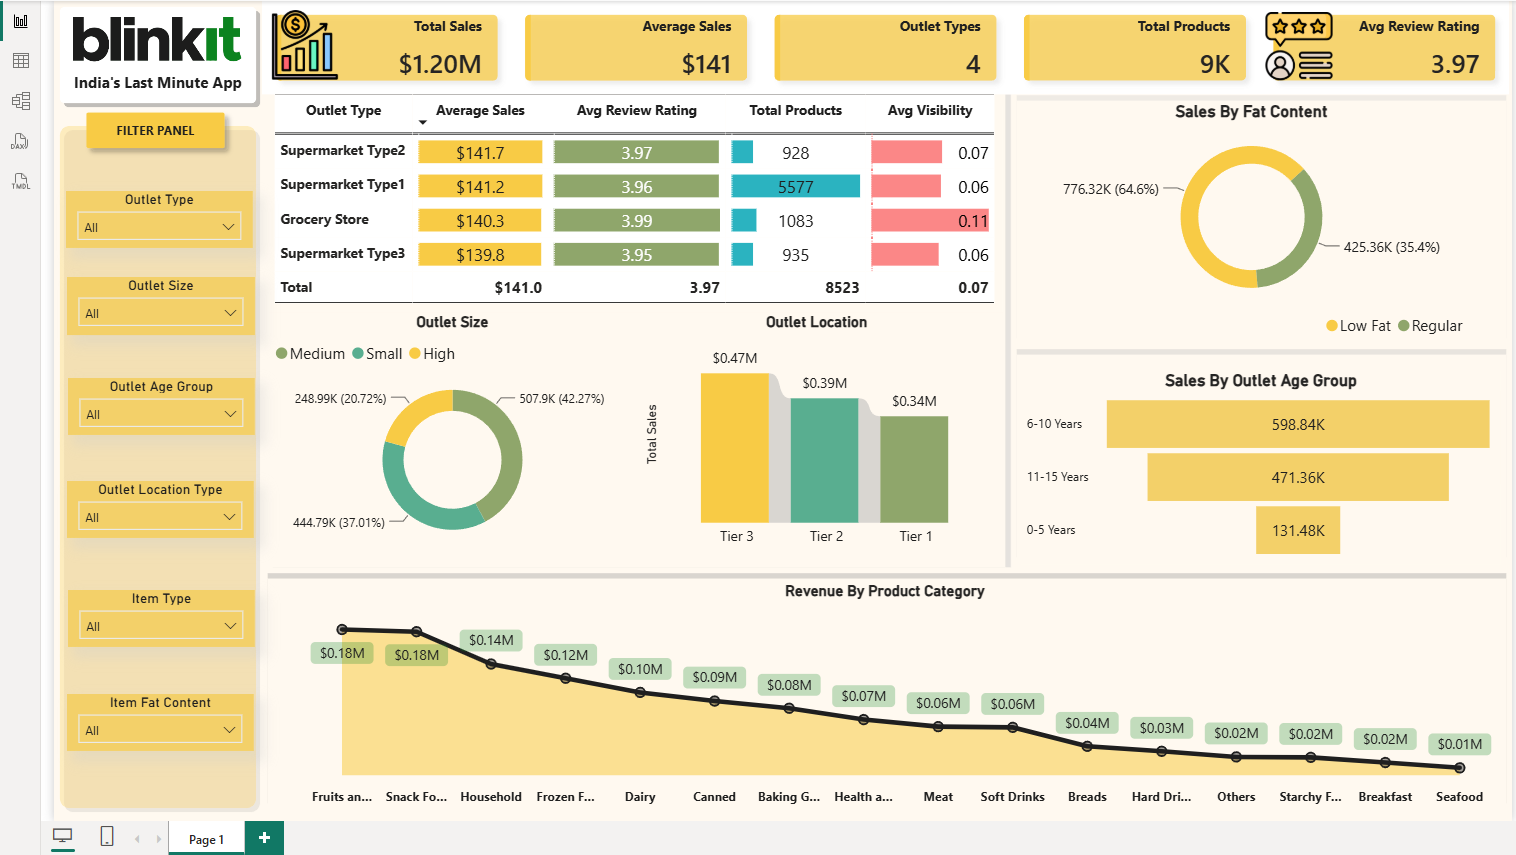

Layout of this report page (visuals, bound fields, positions):
{"tool":"powerbi","page":{"name":"Page 1","canvas":[1280,720],"ordinal":0},"visuals":[{"type":"shape","box":[0,0,182.6,94.8],"z":0},{"type":"cardVisual","fields":{"Data":["public blinkit_sales.Total Sales","public blinkit_sales.Average Sales","public blinkit_sales.Outlet Types","public blinkit_sales.Total Products","public blinkit_sales.Avg Review Rating"]},"box":[182.9,0,1097.1,82],"z":0,"group":"g2"},{"type":"shape","box":[182.6,69.4,657.7,432.9],"z":1000},{"type":"shape","box":[182.6,502.2,1097.6,211.6],"z":2000},{"type":"shape","box":[0,104.5,182.6,609.4],"z":3000},{"type":"shape","box":[19.4,88.3,139.6,49.5],"z":4000},{"type":"shape","box":[840.3,305.6,439.9,192.3],"z":5000},{"type":"areaChart","title":"Revenue By Product Category","fields":{"Category":["public blinkit_sales.item_type"],"Y":["public blinkit_sales.Total Sales"]},"box":[188.8,510.1,1081.8,203.7],"z":5000,"group":"g1"},{"type":"shape","box":[840.3,82.5,439.9,223],"z":6000},{"type":"image","box":[13.2,0,155.4,66.7],"z":7000},{"type":"donutChart","title":"Sales By Fat Content","fields":{"Category":["public blinkit_sales.item_fat_content"],"Y":["public blinkit_sales.Total Sales"]},"box":[856.1,88.7,390.7,215.1],"z":8000},{"type":"group","id":"g1","title":"Group 1","box":[188.8,510.1,1081.8,203.7],"z":8000,"group":"g3"},{"type":"columnChart","title":"Outlet Location","fields":{"Category":["public blinkit_sales.outlet_location_type"],"Y":["public blinkit_sales.Total Sales"]},"box":[514.8,274.1,310.4,214.2],"z":9000},{"type":"donutChart","title":"Outlet Size","fields":{"Category":["public blinkit_sales.outlet_size"],"Y":["public blinkit_sales.Total Sales"]},"box":[188.6,274.1,322.2,214.2],"z":10000},{"type":"pivotTable","title":"Outlet Type","fields":{"Rows":["public blinkit_sales.outlet_type"],"Values":["public blinkit_sales.Average Sales","public blinkit_sales.Avg Review Rating","public blinkit_sales.Total Products","public blinkit_sales.Avg Visibility"]},"box":[188.6,76.6,644.4,197.5],"z":11000},{"type":"group","id":"g2","title":"Group 2","box":[182.9,0,1097.1,82.2],"z":12000},{"type":"group","id":"g3","title":"Group 3","box":[188.8,510.1,1081.8,203.7],"z":13000},{"type":"funnel","title":"Sales By Outlet Age Group ","fields":{"Category":["public blinkit_sales.Outlet Age Group"],"Y":["public blinkit_sales.Total Sales"]},"box":[849.1,324.9,421.5,170.3],"z":14000},{"type":"slicer","title":"Outlet Type","fields":{"Values":["public blinkit_sales.outlet_type"]},"box":[10.5,166.8,164.2,50],"z":15000},{"type":"slicer","title":"Outlet Size","fields":{"Values":["public blinkit_sales.outlet_size"]},"box":[11.4,242.3,165.1,50.9],"z":16000},{"type":"slicer","title":"Outlet Location Type","fields":{"Values":["public blinkit_sales.outlet_location_type"]},"box":[11.4,421.5,164.2,50],"z":17000},{"type":"slicer","title":"Item Type","fields":{"Values":["public blinkit_sales.item_type"]},"box":[12.3,517.2,164.2,50],"z":18000},{"type":"slicer","title":"Item Fat Content","fields":{"Values":["public blinkit_sales.item_fat_content"]},"box":[11.4,608.5,164.2,50],"z":19000},{"type":"slicer","title":"Outlet Age Group","fields":{"Values":["public blinkit_sales.Outlet Age Group"]},"box":[12.3,331,164.2,50],"z":20000},{"type":"image","box":[188.8,0,63.2,76.4],"z":21000},{"type":"image","box":[1060.7,9.7,65,59.7],"z":22000}]}

Visuals, with their boxes on the page's 1280x720 design canvas (x1, y1, x2, y2). These are canvas units, not pixel positions in the 1516x855 screenshot, which may show the page scaled, cropped or inside an application window:
shape: left=0, top=0, right=183, bottom=95
cardVisual - public blinkit_sales.Total Sales x public blinkit_sales.Average Sales: left=183, top=0, right=1280, bottom=82
shape: left=183, top=69, right=840, bottom=502
shape: left=183, top=502, right=1280, bottom=714
shape: left=0, top=104, right=183, bottom=714
shape: left=19, top=88, right=159, bottom=138
shape: left=840, top=306, right=1280, bottom=498
"Revenue By Product Category" areaChart: left=189, top=510, right=1271, bottom=714
shape: left=840, top=82, right=1280, bottom=306
image: left=13, top=0, right=169, bottom=67
"Sales By Fat Content" donutChart: left=856, top=89, right=1247, bottom=304
"Group 1" group: left=189, top=510, right=1271, bottom=714
"Outlet Location" columnChart: left=515, top=274, right=825, bottom=488
"Outlet Size" donutChart: left=189, top=274, right=511, bottom=488
"Outlet Type" pivotTable: left=189, top=77, right=833, bottom=274
"Group 2" group: left=183, top=0, right=1280, bottom=82
"Group 3" group: left=189, top=510, right=1271, bottom=714
"Sales By Outlet Age Group " funnel: left=849, top=325, right=1271, bottom=495
"Outlet Type" slicer: left=10, top=167, right=175, bottom=217
"Outlet Size" slicer: left=11, top=242, right=176, bottom=293
"Outlet Location Type" slicer: left=11, top=422, right=176, bottom=472
"Item Type" slicer: left=12, top=517, right=176, bottom=567
"Item Fat Content" slicer: left=11, top=608, right=176, bottom=658
"Outlet Age Group" slicer: left=12, top=331, right=176, bottom=381
image: left=189, top=0, right=252, bottom=76
image: left=1061, top=10, right=1126, bottom=69
